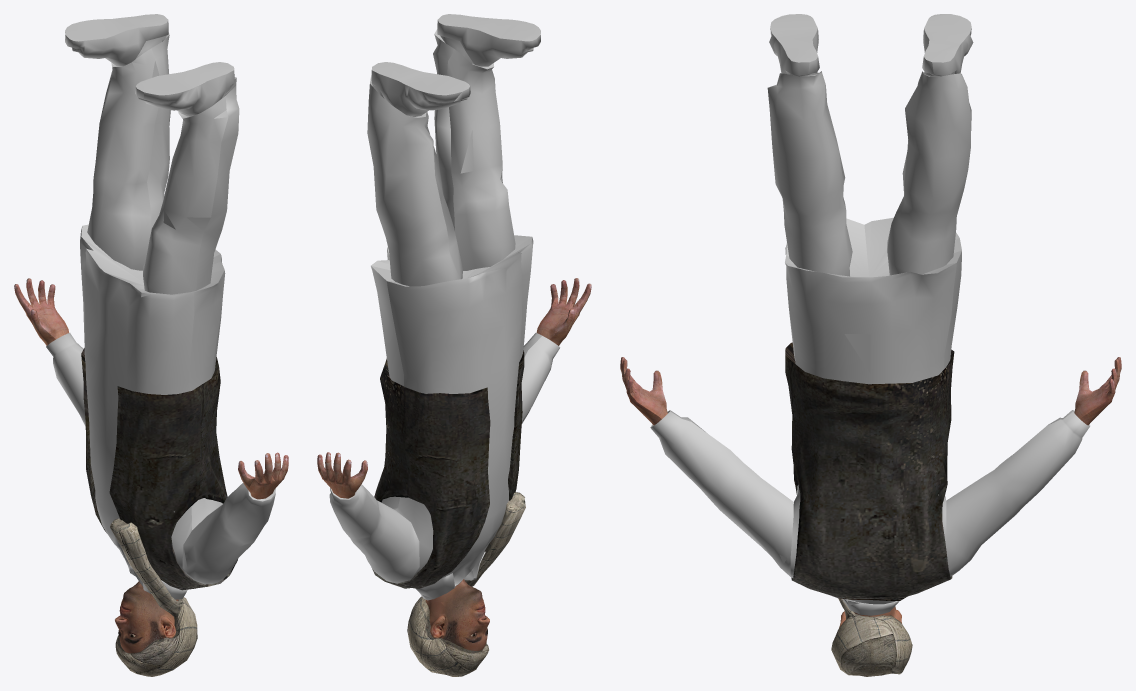
The model's file is Раб.FBX.
3 views of the same model, side by side, from view 1: azimuth 30°, elevation 25°; view 2: azimuth 150°, elevation 25°; view 3: azimuth 270°, elevation 25° (orthographic). The views are drawn at different scales.
Parts seen in each view (by area): view 1: Mesh_0125, Mesh_0091, Mesh_0126, Mesh_0097, Mesh_0122, Mesh_0124, Mesh_0123; view 2: Mesh_0125, Mesh_0091, Mesh_0126, Mesh_0097, Mesh_0122, Mesh_0124, Mesh_0123; view 3: Mesh_0125, Mesh_0126, Mesh_0091, Mesh_0097, Mesh_0124, Mesh_0122.
Boxes of the visible parts, x1,y1,x2,y2 form: Mesh_0125: (46,224,275,599); Mesh_0091: (87,32,239,294); Mesh_0126: (81,348,237,590); Mesh_0097: (65,14,234,116); Mesh_0122: (14,278,288,653); Mesh_0124: (110,518,197,676); Mesh_0123: (238,452,284,499); Mesh_0125: (329,235,559,600); Mesh_0091: (367,29,515,286); Mesh_0126: (371,350,524,588); Mesh_0097: (371,14,540,116); Mesh_0122: (317,278,582,650); Mesh_0124: (407,492,525,676); Mesh_0123: (551,280,591,338); Mesh_0125: (650,217,1089,615); Mesh_0126: (785,342,954,600); Mesh_0091: (767,71,971,276); Mesh_0097: (769,14,973,76); Mesh_0124: (831,598,912,676); Mesh_0122: (621,357,1121,627).
Bounding box in the file's own units: 3452 × 17864 × 12678.
